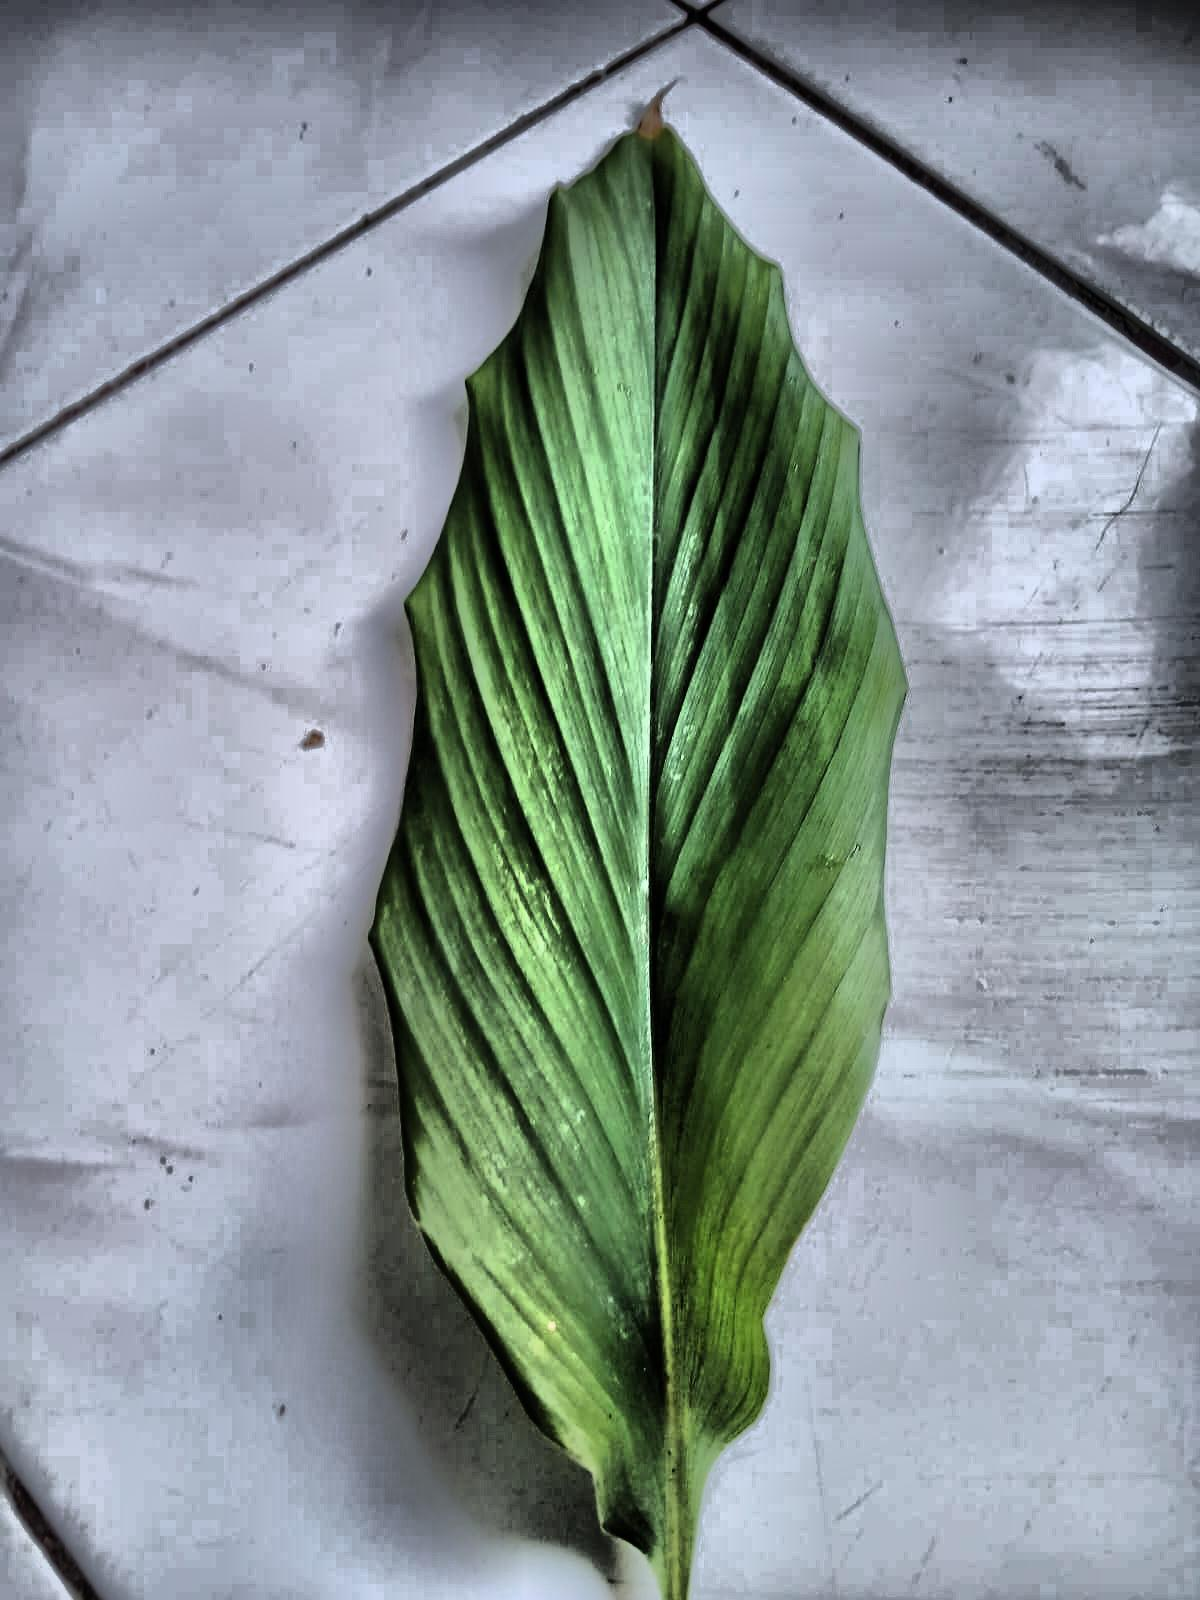daun kunyit: (371, 123, 905, 1599)
